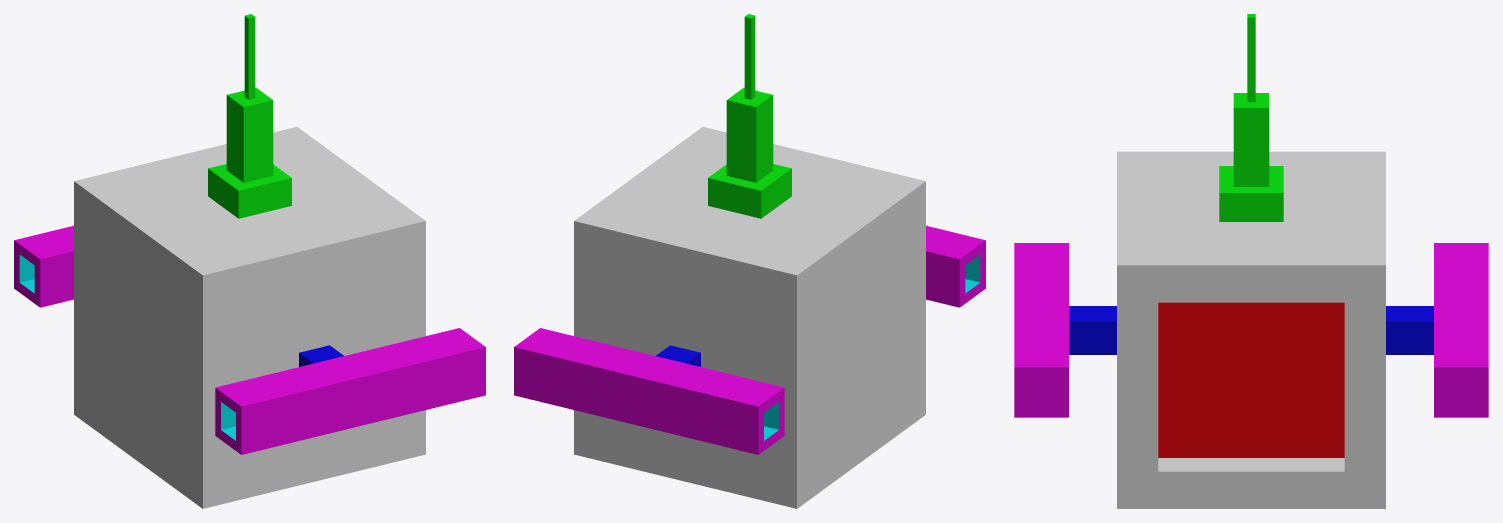
File: UselessShip.fbx
3 renders of one model, left to right at view 1: azimuth 30°, elevation 25°; view 2: azimuth 150°, elevation 25°; view 3: azimuth 270°, elevation 25°, orthographic. The views are drawn at different scales.
Visible parts, largest first — view 1: Cube; view 2: Cube; view 3: Cube.
Part boxes in pixels (<box>): Cube: <box>14,14,485,508</box>; Cube: <box>514,14,985,508</box>; Cube: <box>1014,14,1488,508</box>.
Size of the model in its own units: 266 by 434 by 428.
